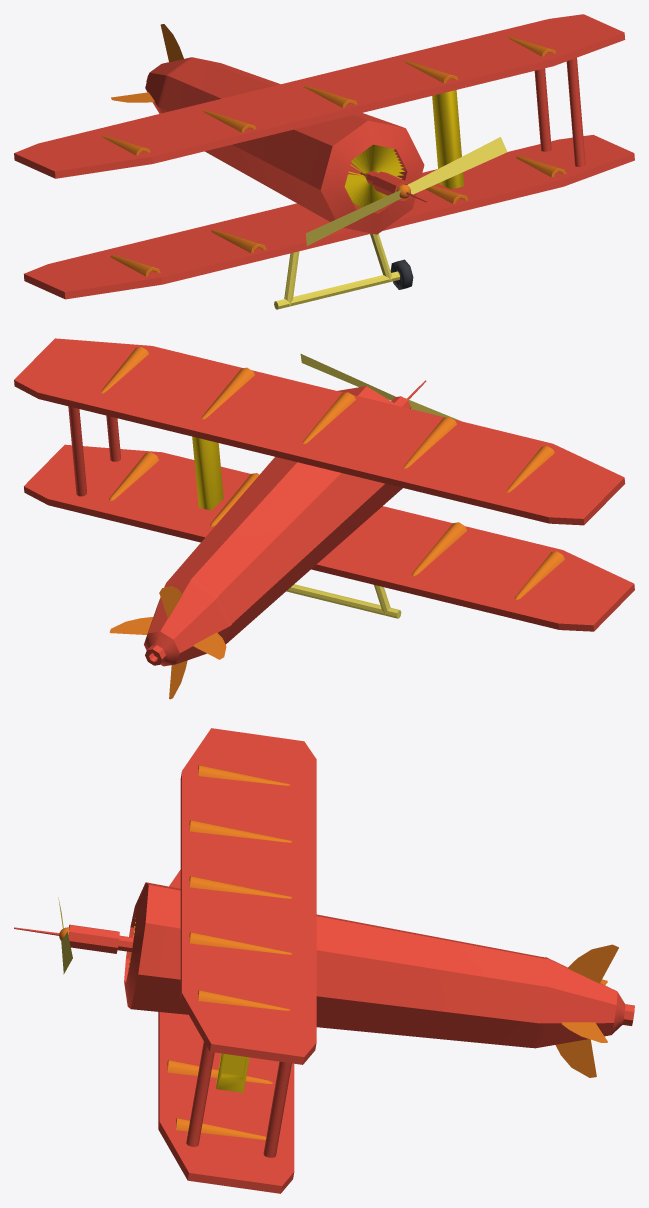
Rendered from plane-nJHe4oZR.glb.
The picture shows the model from 3 angles, top to bottom: view 1: azimuth 30°, elevation 25°; view 2: azimuth 150°, elevation 25°; view 3: azimuth 270°, elevation 25°; orthographic projection. The views are drawn at different scales.
Visible parts, largest first — view 1: 平面.001, 圆环, 圆环.003, 平面.003, 柱体, 立方体, 圆环.001, 柱体.002, 圆环.002, 平面.004; view 2: 平面.001, 圆环, 圆环.003, 立方体, 柱体, 柱体.002, 平面.005, 平面.003, 平面.004; view 3: 平面.001, 圆环, 圆环.003, 柱体, 平面.004, 立方体.
Boxes of the visible parts, bbox=[...] form: 平面.001: bbox=[14, 14, 634, 299]; 圆环: bbox=[145, 57, 427, 234]; 圆环.003: bbox=[102, 36, 566, 276]; 平面.003: bbox=[305, 137, 507, 245]; 柱体: bbox=[534, 57, 585, 166]; 立方体: bbox=[432, 90, 464, 189]; 圆环.001: bbox=[344, 144, 404, 209]; 柱体.002: bbox=[274, 233, 399, 309]; 圆环.002: bbox=[390, 259, 413, 289]; 平面.004: bbox=[160, 24, 183, 62]; 平面.001: bbox=[14, 338, 634, 631]; 圆环: bbox=[144, 380, 426, 666]; 圆环.003: bbox=[100, 347, 564, 600]; 立方体: bbox=[192, 436, 223, 510]; 柱体: bbox=[68, 406, 120, 496]; 柱体.002: bbox=[286, 584, 401, 618]; 平面.005: bbox=[109, 617, 226, 659]; 平面.003: bbox=[300, 354, 460, 420]; 平面.004: bbox=[159, 586, 187, 699]; 平面.001: bbox=[158, 728, 316, 1193]; 圆环: bbox=[14, 882, 634, 1048]; 圆环.003: bbox=[167, 765, 292, 1139]; 柱体: bbox=[186, 1041, 291, 1157]; 平面.004: bbox=[555, 944, 618, 1077]; 立方体: bbox=[216, 1053, 249, 1092].
Size of the model in its own units: 10.97 by 3.91 by 9.12.
